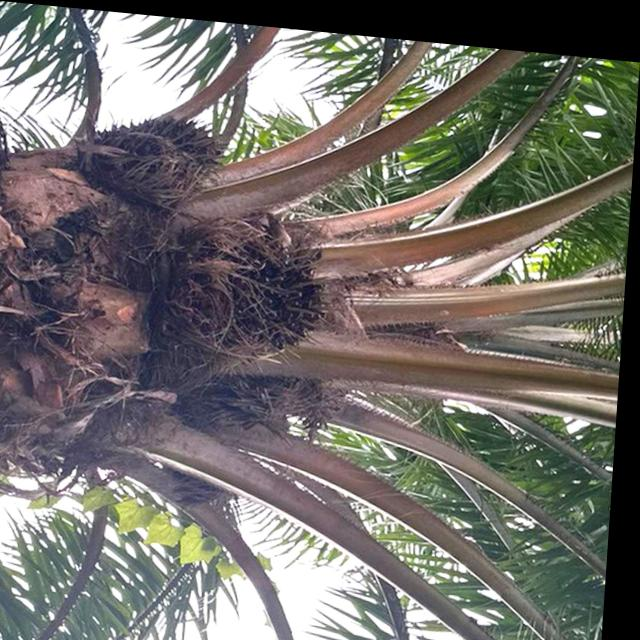ripe: (175, 212, 338, 352)
